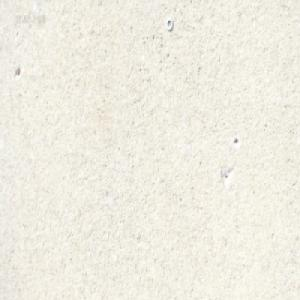Washer: (165, 16, 173, 31)
